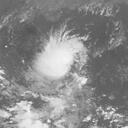cyclone: (33, 24, 89, 80)
